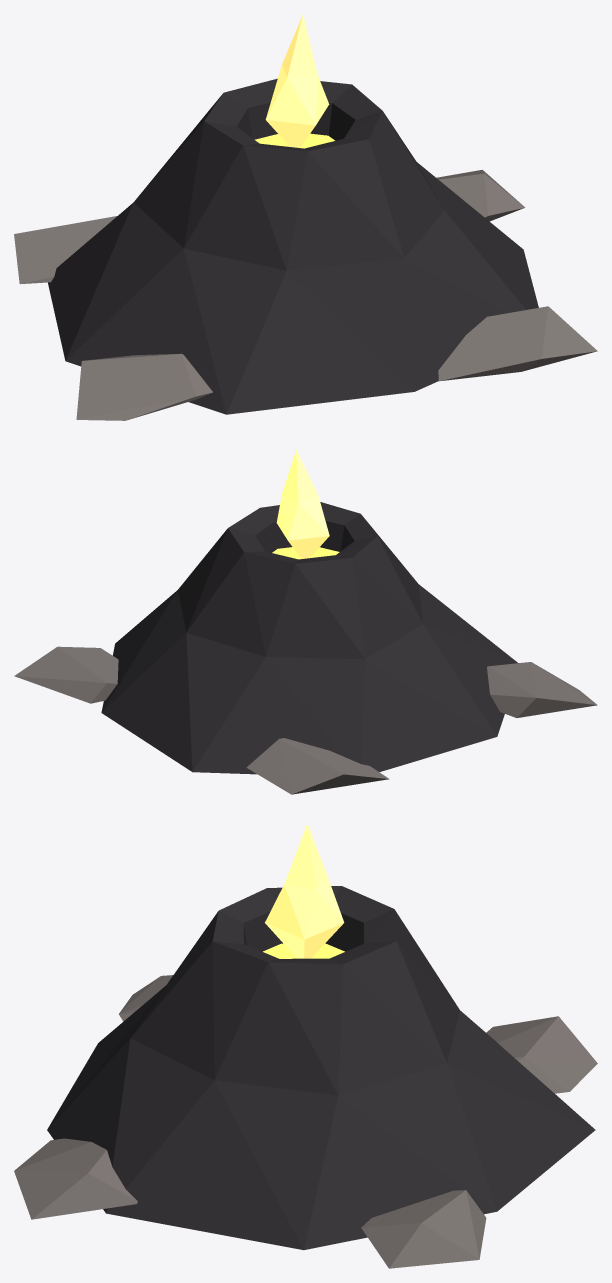
The model's file is Ember_Vent.fbx.
The picture shows the model from 3 angles, top to bottom: view 1: azimuth 30°, elevation 25°; view 2: azimuth 150°, elevation 25°; view 3: azimuth 270°, elevation 25°; orthographic projection. The views are drawn at different scales.
Visible parts, largest first — view 1: Cone, Ash, Flame, Mouth; view 2: Cone, Ash, Flame; view 3: Cone, Ash, Flame, Mouth.
Part boxes in pixels (x1,y1,x2,y2): Cone: [48, 78, 538, 414]; Ash: [14, 169, 597, 420]; Flame: [265, 14, 329, 147]; Mouth: [254, 133, 334, 148]; Cone: [101, 502, 518, 774]; Ash: [14, 646, 597, 794]; Flame: [276, 449, 329, 558]; Cone: [47, 886, 595, 1250]; Ash: [14, 975, 597, 1268]; Flame: [265, 823, 344, 958]; Mouth: [263, 943, 344, 958].
Size of the model in its own units: 3.83 by 1.9 by 3.23.
